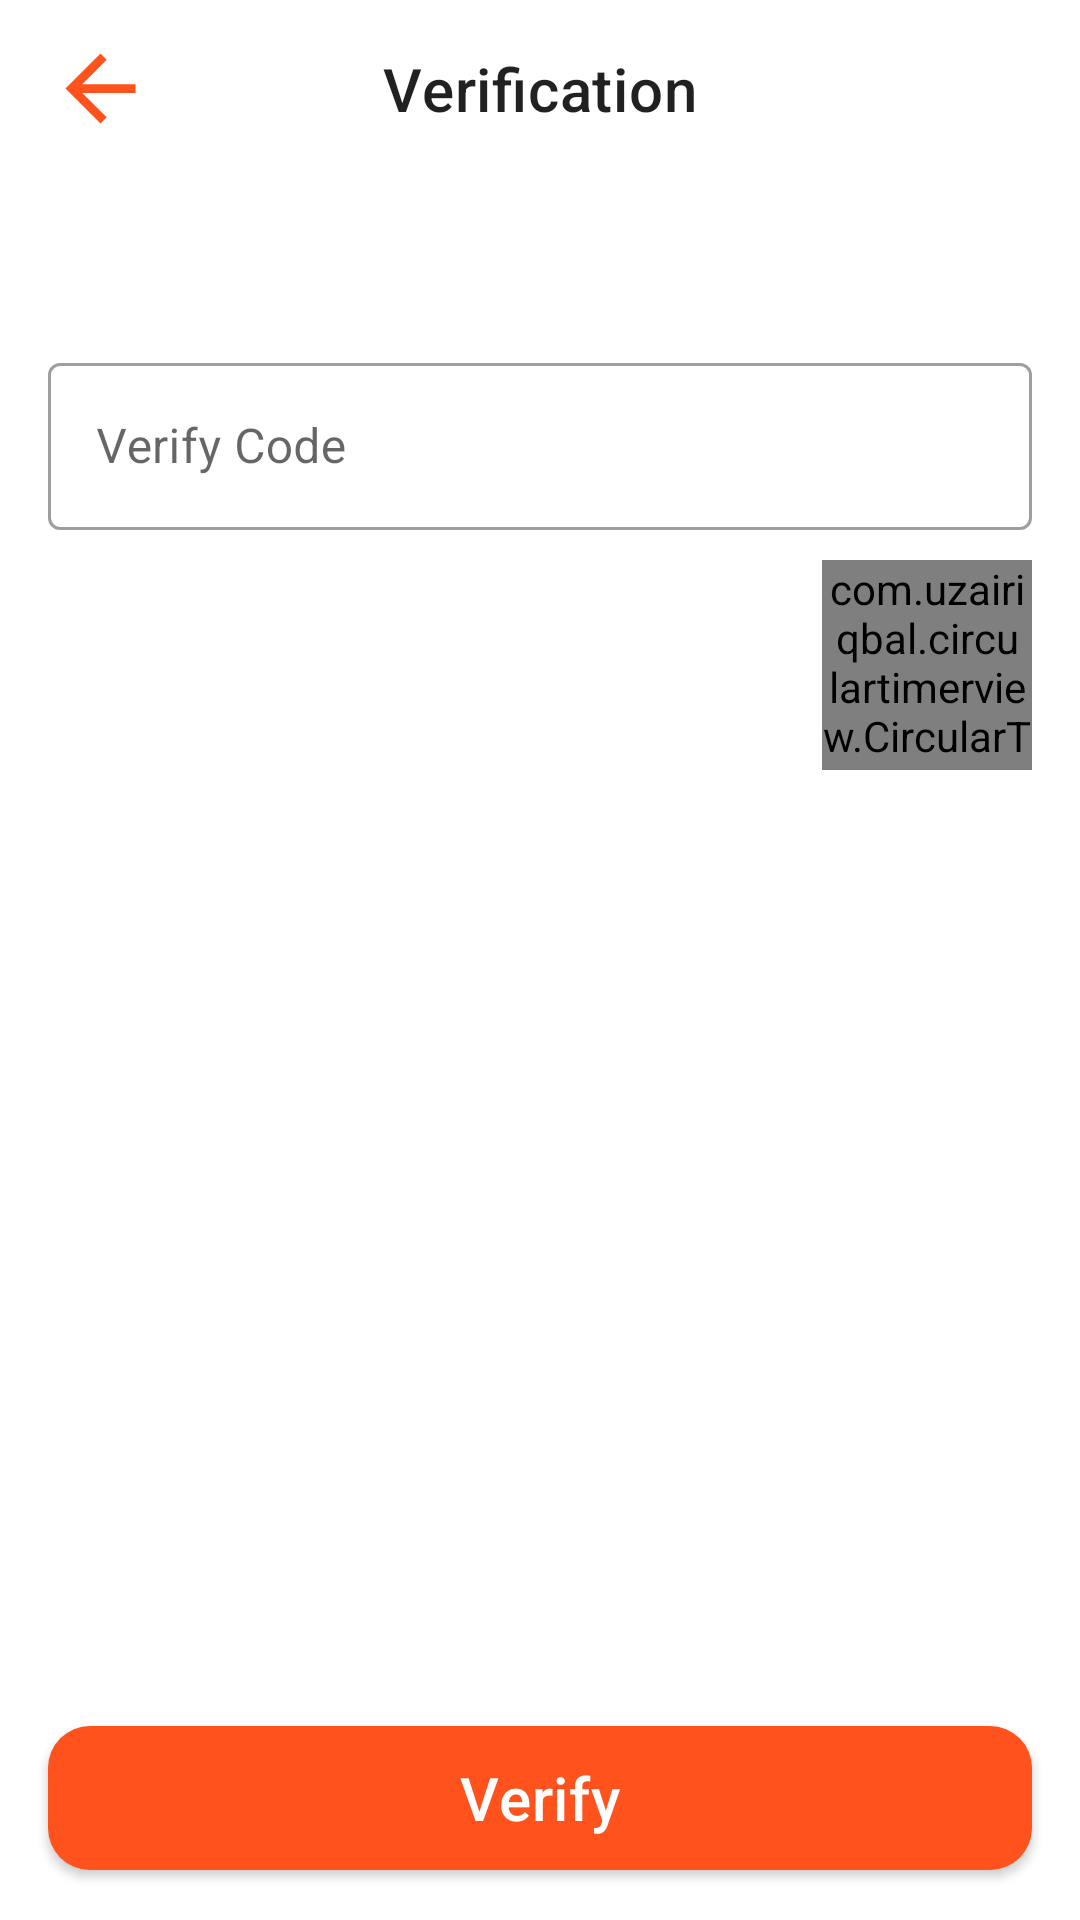

Icon bounding boxes for this 1080px×1920px phone screenshot, format bbox=[x1, y1, x2, y2]:
arrow back: bbox=[65, 53, 136, 124]
